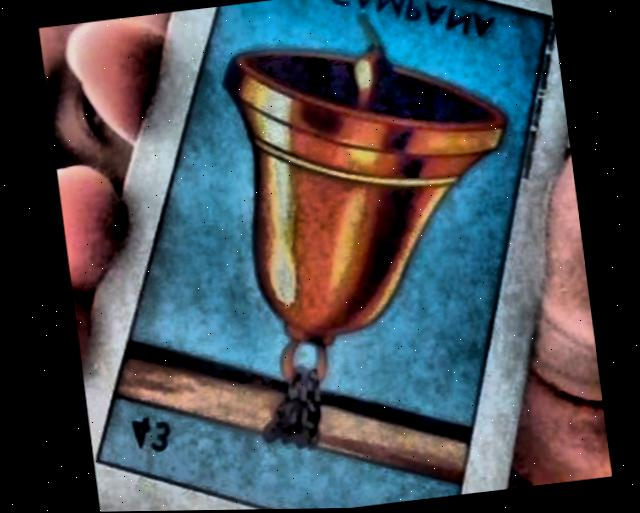La Campana: (98, 0, 549, 510)
